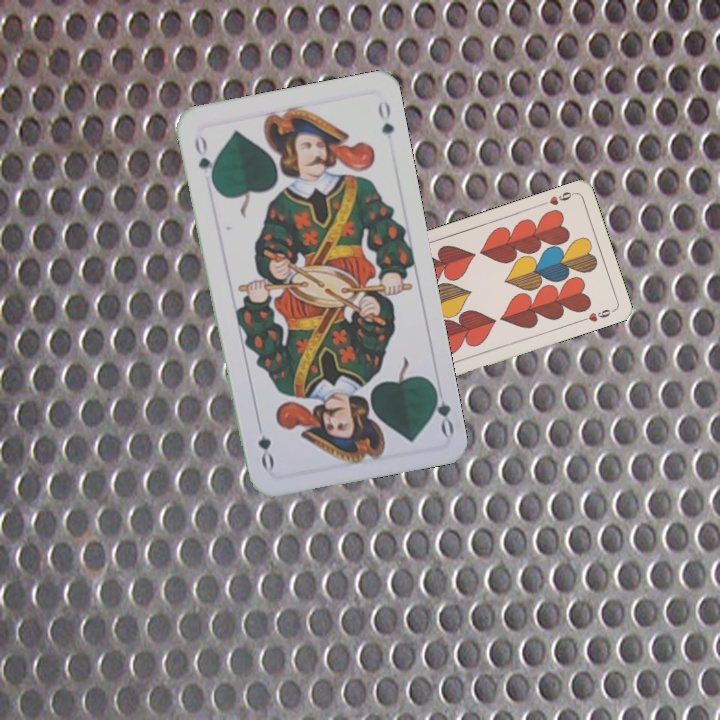GO: (427, 380, 457, 438), (190, 129, 217, 187)
H9: (538, 188, 577, 208)
